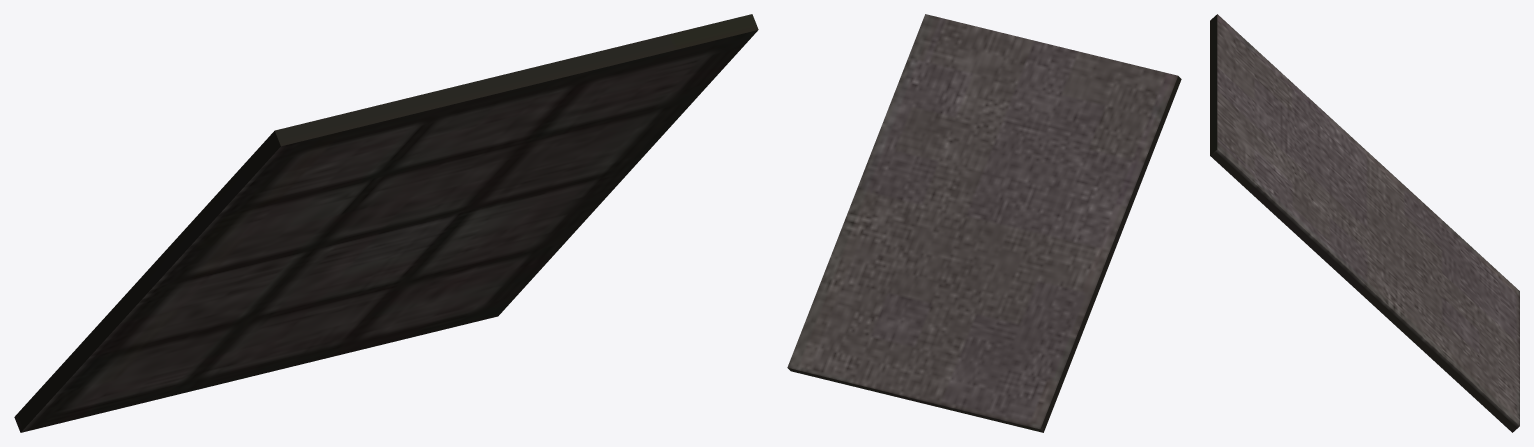
Rendered from stone_roof_square_textured.glb.
3 views of the same model, side by side, from view 1: azimuth 30°, elevation 25°; view 2: azimuth 150°, elevation 25°; view 3: azimuth 270°, elevation 25° (orthographic). The views are drawn at different scales.
Visible parts, largest first — view 1: Plane; view 2: Plane; view 3: Plane.
Part boxes in pixels (bbox=[...]): Plane: bbox=[14, 14, 758, 432]; Plane: bbox=[787, 14, 1181, 432]; Plane: bbox=[1210, 14, 1519, 432].
Bounding box in the file's own units: 2.13 × 2.08 × 2.05.
Materials: 1 (1 with a texture image).
